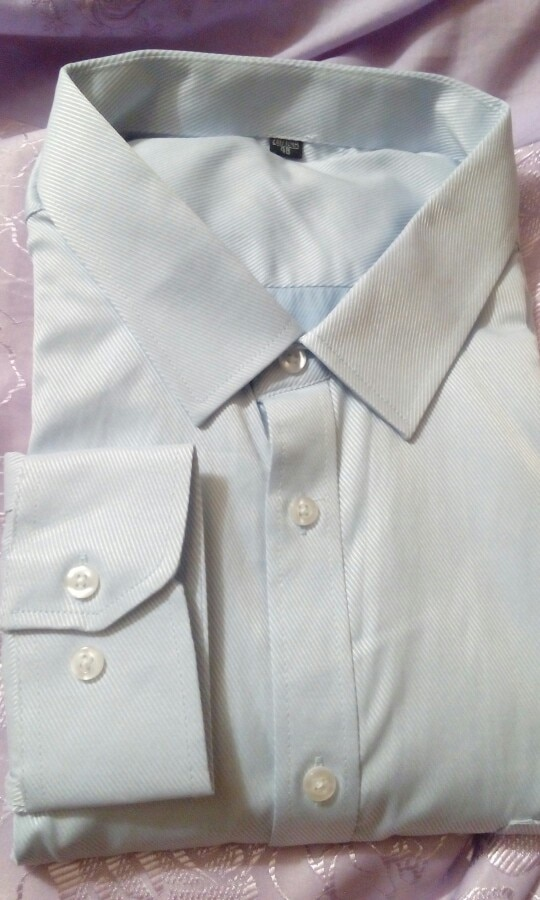shirts: (28, 57, 540, 854)
